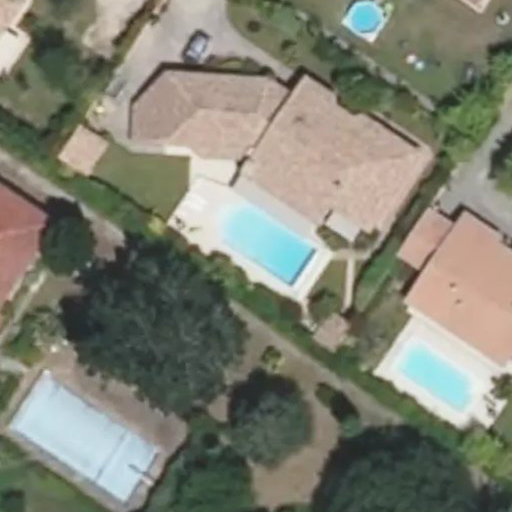pool: (208, 238, 303, 244)
